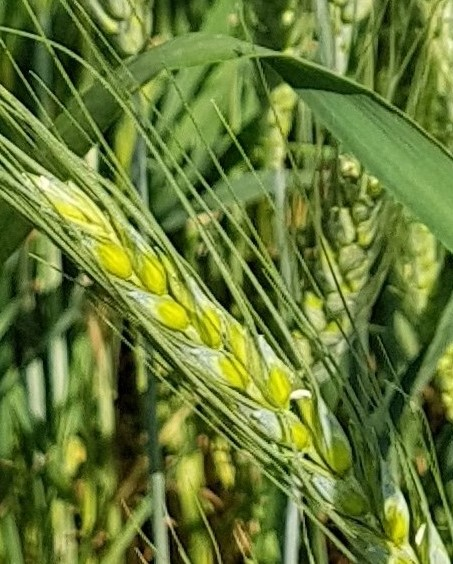Healthy Wheat: (30, 174, 428, 556)
